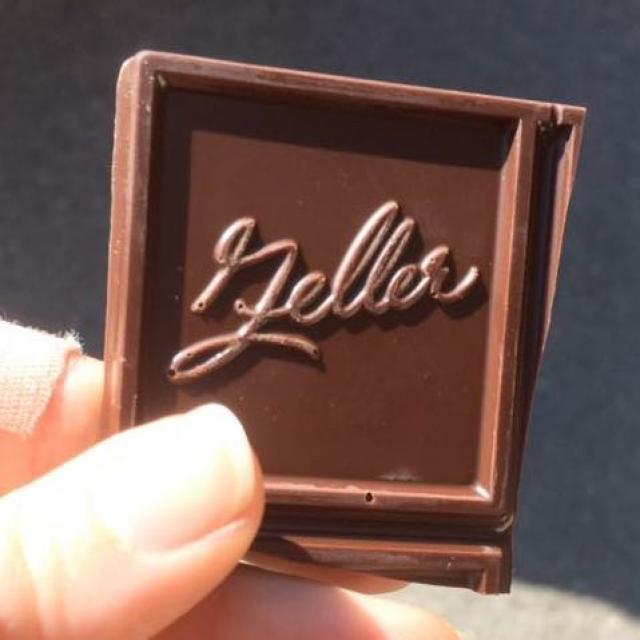chocolate: (120, 117, 569, 512)
